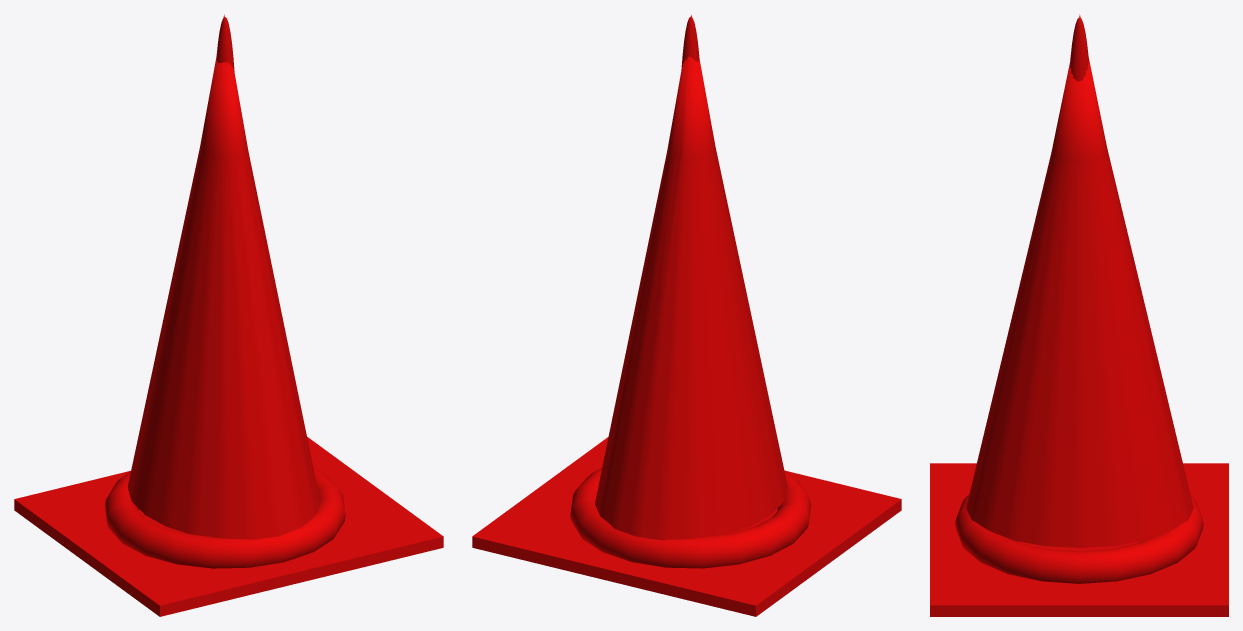
3 views of the same model, side by side, from view 1: azimuth 30°, elevation 25°; view 2: azimuth 150°, elevation 25°; view 3: azimuth 270°, elevation 25° (orthographic). The views are drawn at different scales.
Parts seen in each view (by area): view 1: colorcone:colorcone:colorcone:colorcone:pCone1, colorcone:colorcone:colorcone:colorcone:pCube1, colorcone:colorcone:colorcone:colorcone:pTorus1, colorcone:colorcone:pSphere1; view 2: colorcone:colorcone:colorcone:colorcone:pCone1, colorcone:colorcone:colorcone:colorcone:pCube1, colorcone:colorcone:colorcone:colorcone:pTorus1; view 3: colorcone:colorcone:colorcone:colorcone:pCone1, colorcone:colorcone:colorcone:colorcone:pCube1, colorcone:colorcone:colorcone:colorcone:pTorus1, colorcone:colorcone:pSphere1.
Boxes of the visible parts, <box> form: colorcone:colorcone:colorcone:colorcone:pCone1: <box>127,14,320,539</box>; colorcone:colorcone:colorcone:colorcone:pCube1: <box>14,437,443,616</box>; colorcone:colorcone:colorcone:colorcone:pTorus1: <box>105,468,345,568</box>; colorcone:colorcone:pSphere1: <box>216,17,234,71</box>; colorcone:colorcone:colorcone:colorcone:pCone1: <box>595,15,787,540</box>; colorcone:colorcone:colorcone:colorcone:pCube1: <box>472,437,901,616</box>; colorcone:colorcone:colorcone:colorcone:pTorus1: <box>570,468,810,568</box>; colorcone:colorcone:colorcone:colorcone:pCone1: <box>966,14,1193,547</box>; colorcone:colorcone:colorcone:colorcone:pCube1: <box>930,463,1228,616</box>; colorcone:colorcone:colorcone:colorcone:pTorus1: <box>955,494,1203,583</box>; colorcone:colorcone:pSphere1: <box>1070,17,1088,81</box>.
Size of the model in its own units: 9.81 by 17.06 by 8.72.
